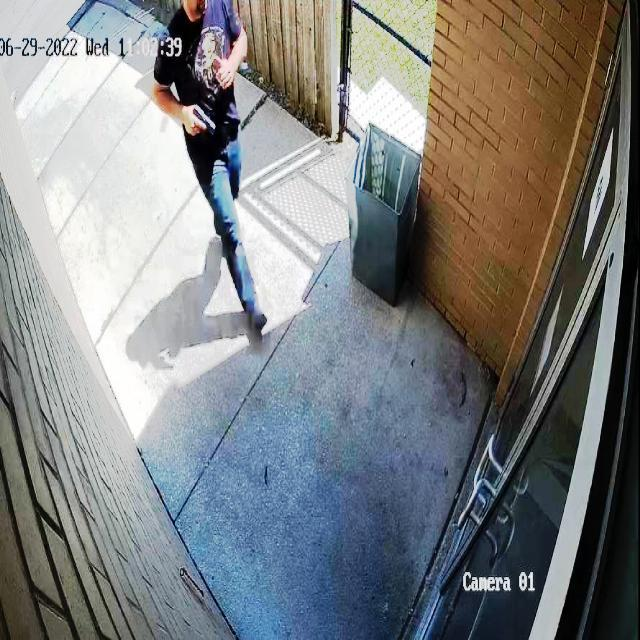Gun: (163, 105, 219, 143)
